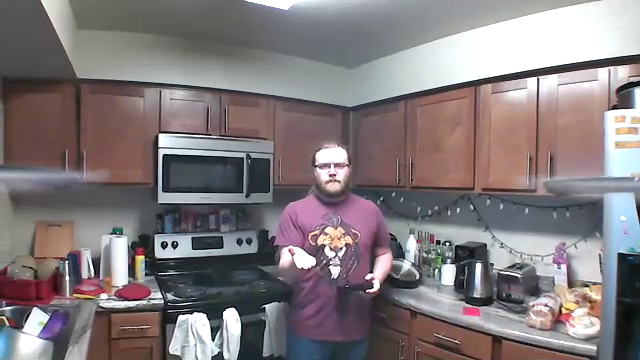land: (288, 246, 317, 271)
